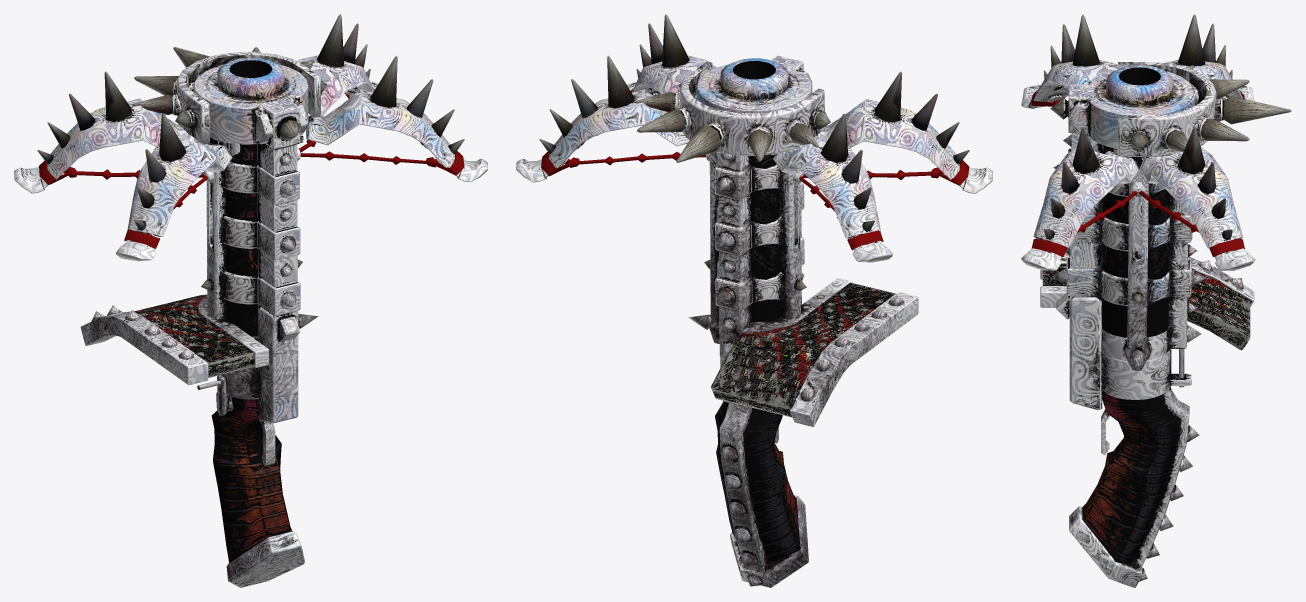
The model's file is hbg012.obj.
The picture shows the model from 3 angles, left to right: view 1: azimuth 30°, elevation 25°; view 2: azimuth 150°, elevation 25°; view 3: azimuth 270°, elevation 25°; orthographic projection. The views are drawn at different scales.
Parts seen in each view (by area): view 1: hbg012_002_LOD_1, hbg012_000_LOD_1, hbg012_001_LOD_1, hbg012_009_LOD_1, hbg012_008_LOD_1, hbg012_007_LOD_1, hbg012_006_LOD_1; view 2: hbg012_002_LOD_1, hbg012_009_LOD_1, hbg012_001_LOD_1, hbg012_000_LOD_1, hbg012_008_LOD_1, hbg012_006_LOD_1, hbg012_007_LOD_1; view 3: hbg012_002_LOD_1, hbg012_000_LOD_1, hbg012_001_LOD_1, hbg012_008_LOD_1, hbg012_009_LOD_1, hbg012_007_LOD_1, hbg012_006_LOD_1.
Part boxes in pixels (box(x1,y1,x2,y2)): hbg012_002_LOD_1: box(188, 57, 318, 587); hbg012_000_LOD_1: box(115, 56, 487, 261); hbg012_001_LOD_1: box(14, 14, 378, 193); hbg012_009_LOD_1: box(80, 294, 268, 385); hbg012_008_LOD_1: box(132, 47, 326, 144); hbg012_007_LOD_1: box(124, 151, 464, 248); hbg012_006_LOD_1: box(39, 90, 374, 184); hbg012_002_LOD_1: box(688, 55, 812, 587); hbg012_009_LOD_1: box(711, 278, 918, 426); hbg012_001_LOD_1: box(516, 56, 892, 262); hbg012_000_LOD_1: box(626, 14, 992, 193); hbg012_008_LOD_1: box(634, 61, 830, 162); hbg012_006_LOD_1: box(541, 152, 883, 250); hbg012_007_LOD_1: box(630, 89, 969, 185); hbg012_002_LOD_1: box(1050, 65, 1206, 587); hbg012_000_LOD_1: box(1021, 14, 1139, 270); hbg012_001_LOD_1: box(1139, 14, 1255, 270); hbg012_008_LOD_1: box(1117, 62, 1291, 156); hbg012_009_LOD_1: box(1040, 252, 1254, 350); hbg012_007_LOD_1: box(1031, 90, 1137, 256); hbg012_006_LOD_1: box(1139, 90, 1244, 256).
Size of the model in its own units: 135 by 179 by 86.1.
